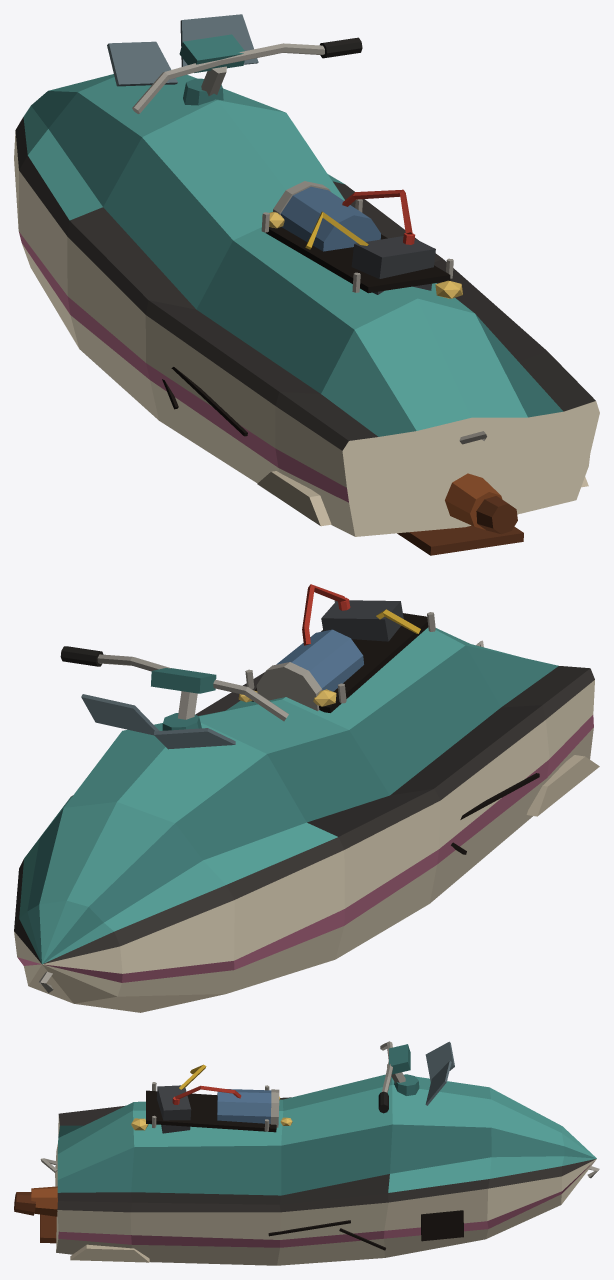
File: water_jet.glb
3 renders of one model, top to bottom at view 1: azimuth 30°, elevation 25°; view 2: azimuth 150°, elevation 25°; view 3: azimuth 270°, elevation 25°, orthographic. The views are drawn at different scales.
Parts seen in each view (by area): view 1: water_jet; view 2: water_jet; view 3: water_jet.
Boxes of the visible parts, x1,y1,x2,y2 form: water_jet: (14, 14, 599, 555); water_jet: (14, 584, 599, 1012); water_jet: (14, 1041, 599, 1265).
Bounding box in the file's own units: 1.09 × 1.08 × 2.96.
